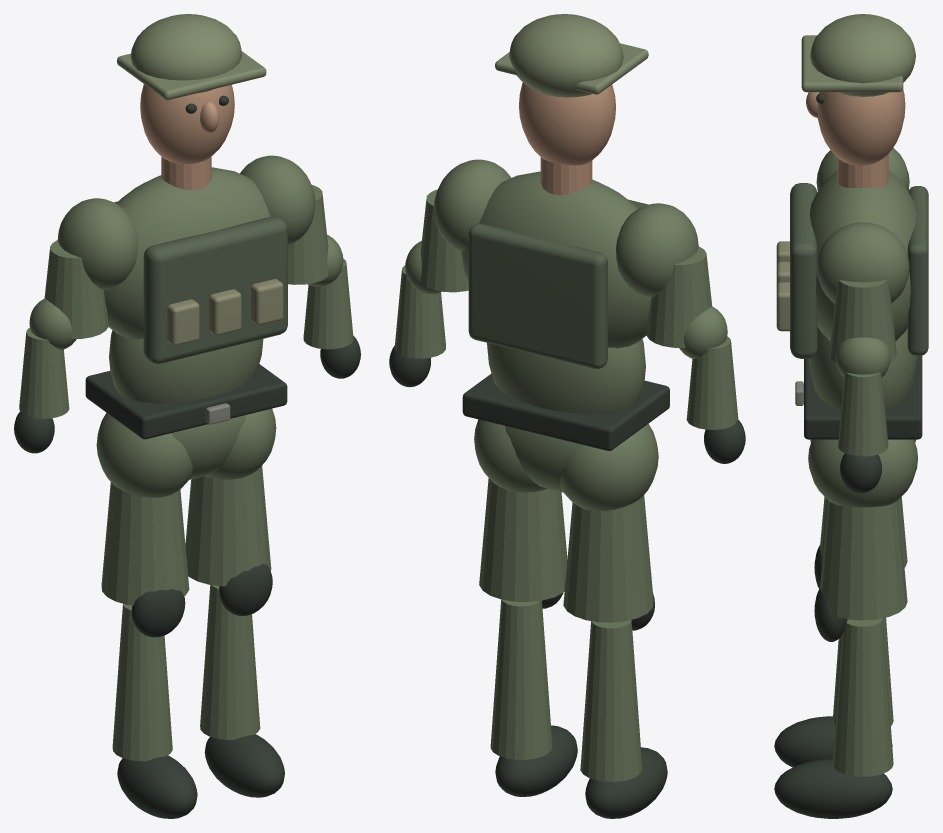
File: Player.fbx
3 views of the same model, side by side, from view 1: azimuth 30°, elevation 25°; view 2: azimuth 150°, elevation 25°; view 3: azimuth 270°, elevation 25° (orthographic). The views are drawn at different scales.
Parts seen in each view (by area): view 1: Vest Front, Chest Body, Trouser Leg.001, Trouser Leg, Torso Lower, Lower Leg.001, Lower Leg, Utility Belt, Helmet Shell, Hip.001, Shoulder.001, Head Mesh (+20 smaller); view 2: Vest Back, Chest Body, Trouser Leg.001, Trouser Leg, Lower Leg.001, Lower Leg, Torso Lower, Helmet Shell, Utility Belt, Head Mesh, Hip.001, Shoulder.001 (+15 smaller); view 3: Trouser Leg, Lower Leg, Chest Body, Helmet Shell, Head Mesh, Shoulder, Combat Boot, Hip, Vest Front, Upper Sleeve, Forearm Sleeve, Utility Belt (+12 smaller).
Part boxes in pixels (bbox=[...]): Vest Front: bbox=[143, 216, 287, 363]; Chest Body: bbox=[104, 167, 288, 339]; Trouser Leg.001: bbox=[101, 482, 189, 605]; Trouser Leg: bbox=[185, 465, 271, 586]; Torso Lower: bbox=[109, 330, 263, 403]; Lower Leg.001: bbox=[112, 603, 172, 761]; Lower Leg: bbox=[200, 585, 260, 739]; Utility Belt: bbox=[85, 364, 287, 439]; Helmet Shell: bbox=[130, 14, 242, 93]; Hip.001: bbox=[96, 412, 192, 497]; Shoulder.001: bbox=[57, 198, 138, 289]; Head Mesh: bbox=[140, 84, 234, 164]; Vest Back: bbox=[468, 223, 607, 368]; Chest Body: bbox=[461, 171, 651, 348]; Trouser Leg.001: bbox=[563, 495, 653, 622]; Trouser Leg: bbox=[479, 478, 567, 601]; Lower Leg.001: bbox=[580, 620, 642, 781]; Lower Leg: bbox=[490, 599, 552, 759]; Torso Lower: bbox=[487, 339, 645, 413]; Helmet Shell: bbox=[509, 14, 623, 97]; Utility Belt: bbox=[462, 373, 669, 450]; Head Mesh: bbox=[519, 82, 615, 165]; Hip.001: bbox=[560, 424, 658, 510]; Shoulder.001: bbox=[616, 203, 698, 297]; Trouser Leg: bbox=[820, 500, 907, 620]; Lower Leg: bbox=[833, 618, 893, 776]; Chest Body: bbox=[809, 171, 916, 341]; Helmet Shell: bbox=[810, 14, 915, 96]; Head Mesh: bbox=[817, 89, 905, 165]; Shoulder: bbox=[816, 222, 909, 303]; Combat Boot: bbox=[774, 759, 892, 818]; Hip: bbox=[808, 439, 917, 507]; Vest Front: bbox=[790, 183, 817, 358]; Upper Sleeve: bbox=[829, 279, 896, 362]; Forearm Sleeve: bbox=[837, 372, 888, 456]; Utility Belt: bbox=[804, 355, 922, 439].
Bounding box in the file's own units: 93.6 × 202 × 36.5.
